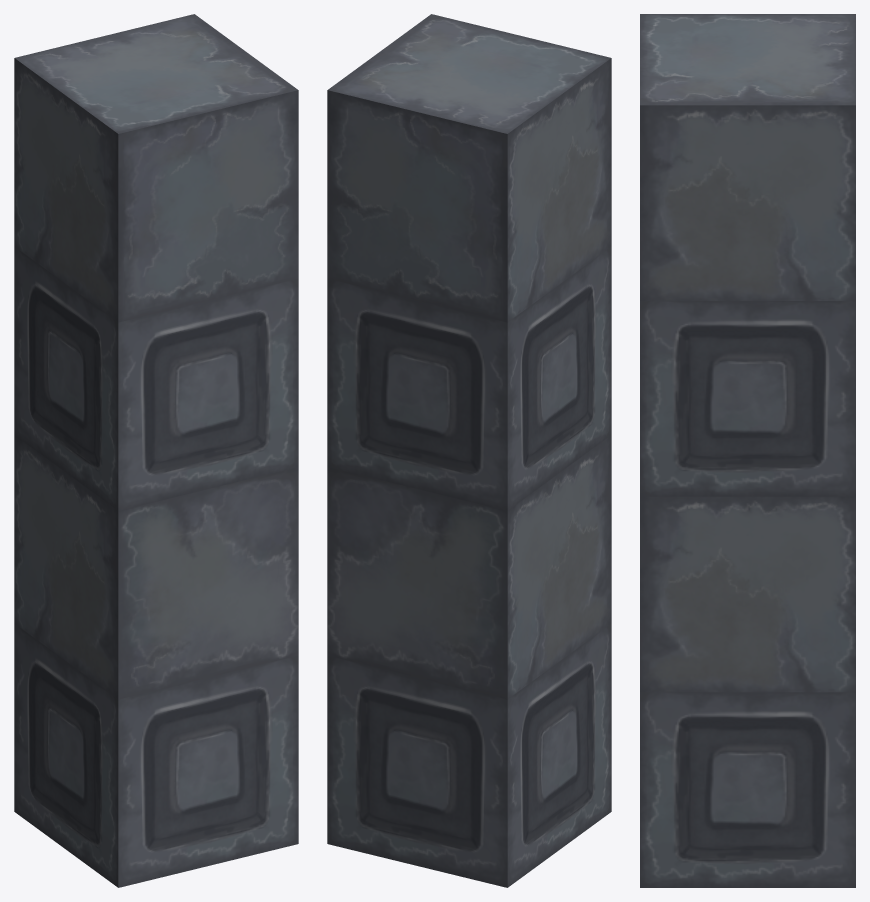
Rendered from Castle Sig Sag 1x4.fbx.
The picture shows the model from 3 angles, left to right: view 1: azimuth 30°, elevation 25°; view 2: azimuth 150°, elevation 25°; view 3: azimuth 270°, elevation 25°; orthographic projection. The views are drawn at different scales.
Parts seen in each view (by area): view 1: Castle Sig Sag 1x4; view 2: Castle Sig Sag 1x4; view 3: Castle Sig Sag 1x4.
Boxes of the visible parts, <box> form: Castle Sig Sag 1x4: <box>14,14,298,887</box>; Castle Sig Sag 1x4: <box>327,14,611,887</box>; Castle Sig Sag 1x4: <box>640,14,855,887</box>.
Bounding box in the file's own units: 0.75 × 3 × 0.7501.
